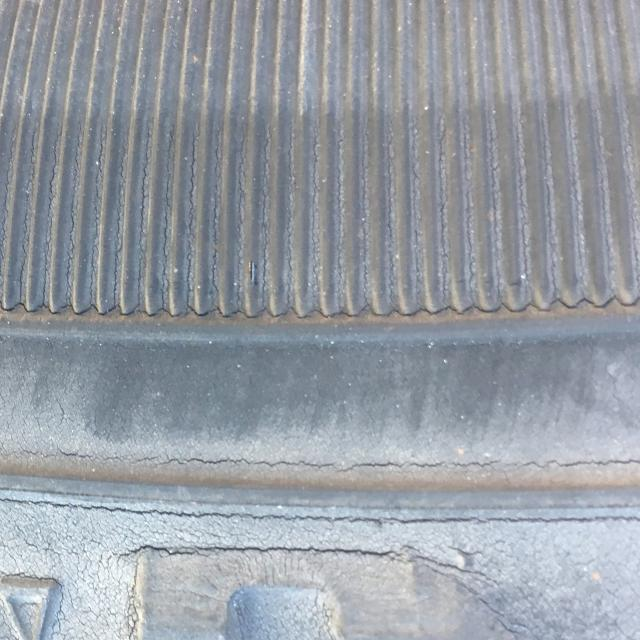Cracks: (0, 432, 640, 640), (0, 106, 416, 334)
